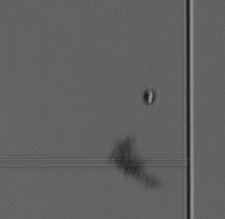Dead Cell: (142, 88, 156, 105)
